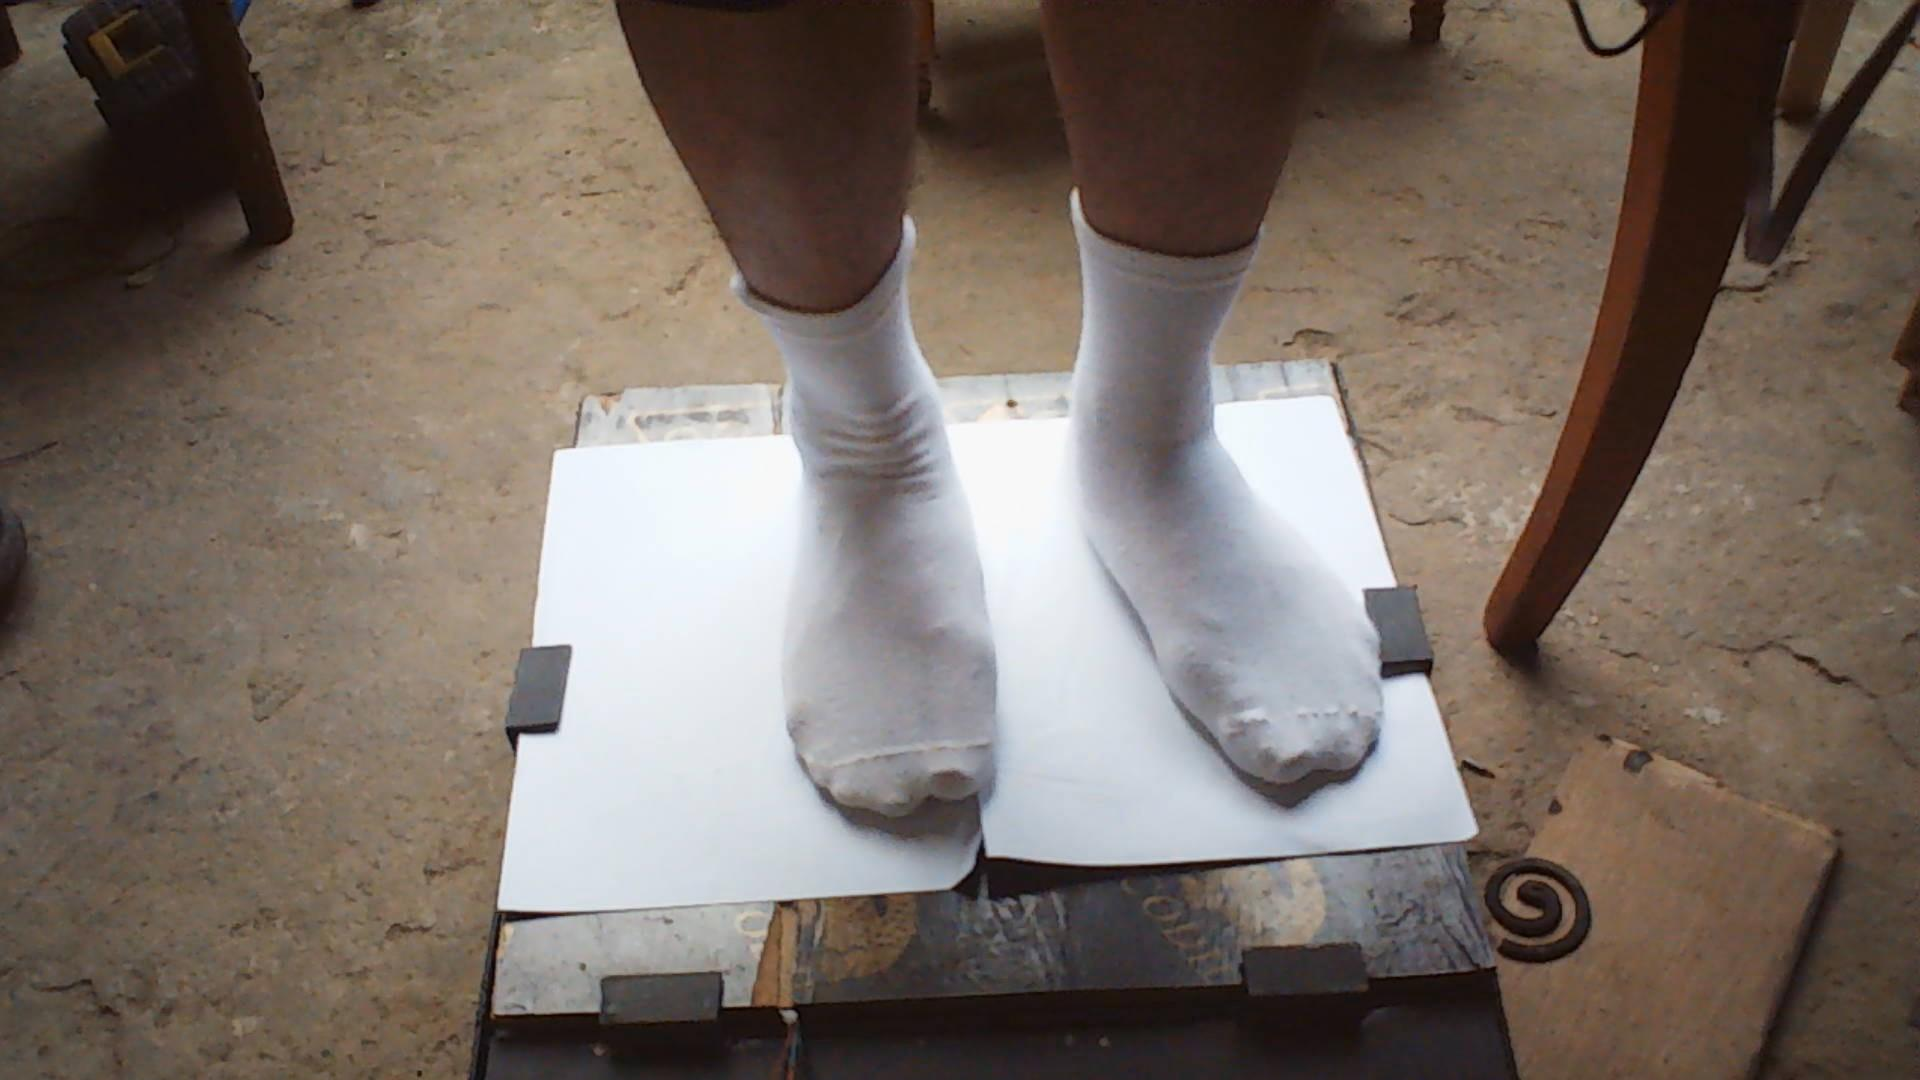white_socks: (645, 145, 1063, 870), (1027, 162, 1425, 818)
